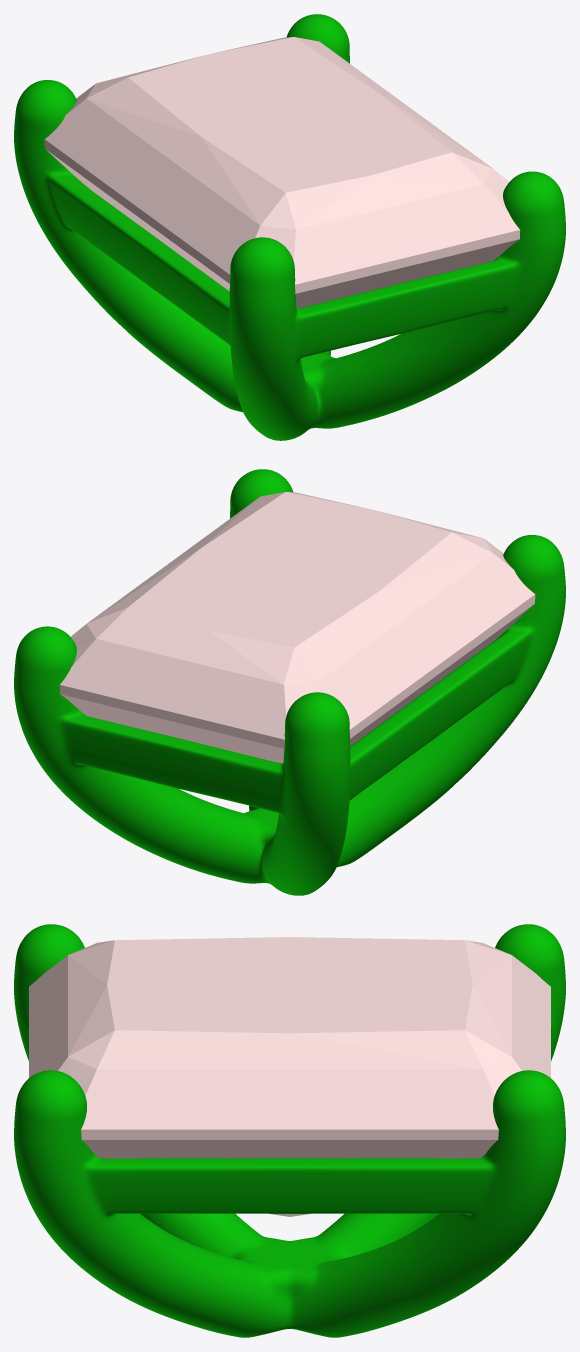
3 views of the same model, one above another, from view 1: azimuth 30°, elevation 25°; view 2: azimuth 150°, elevation 25°; view 3: azimuth 270°, elevation 25° (orthographic). The views are drawn at different scales.
Parts seen in each view (by area): view 1: Diamond_Radiant, Metal01; view 2: Diamond_Radiant, Metal01; view 3: Diamond_Radiant, Metal01.
Boxes of the visible parts, bbox=[...] form: Diamond_Radiant: bbox=[44, 37, 520, 308]; Metal01: bbox=[14, 14, 565, 440]; Diamond_Radiant: bbox=[59, 492, 535, 763]; Metal01: bbox=[14, 469, 565, 895]; Diamond_Radiant: bbox=[29, 937, 550, 1216]; Metal01: bbox=[14, 924, 565, 1337].
Size of the model in its own units: 7.79 by 6.85 by 10.25.
